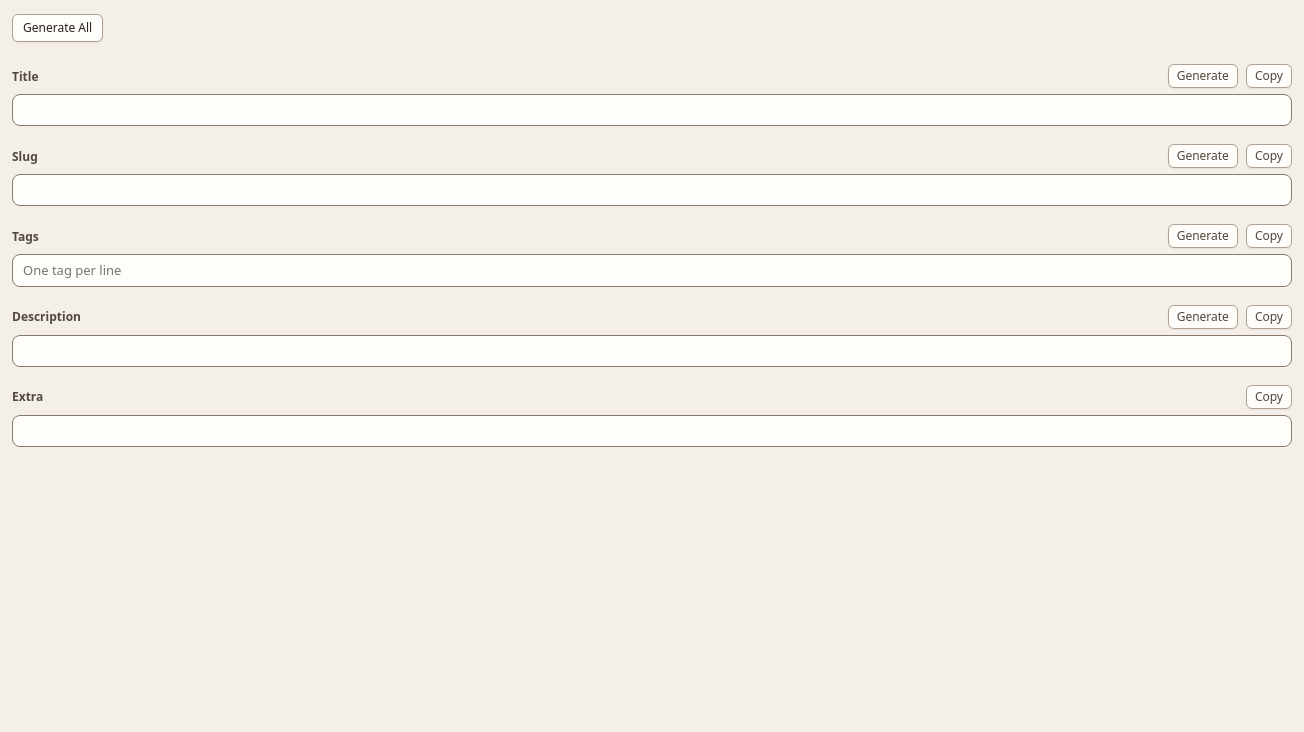
Test: MetadataTab single-field generation › surfaces a generation failure and does not save
Click the button with class "meta-field-generate" in the row of "Title" at point(1203, 76), box left=1168, top=64, right=1238, bottom=88
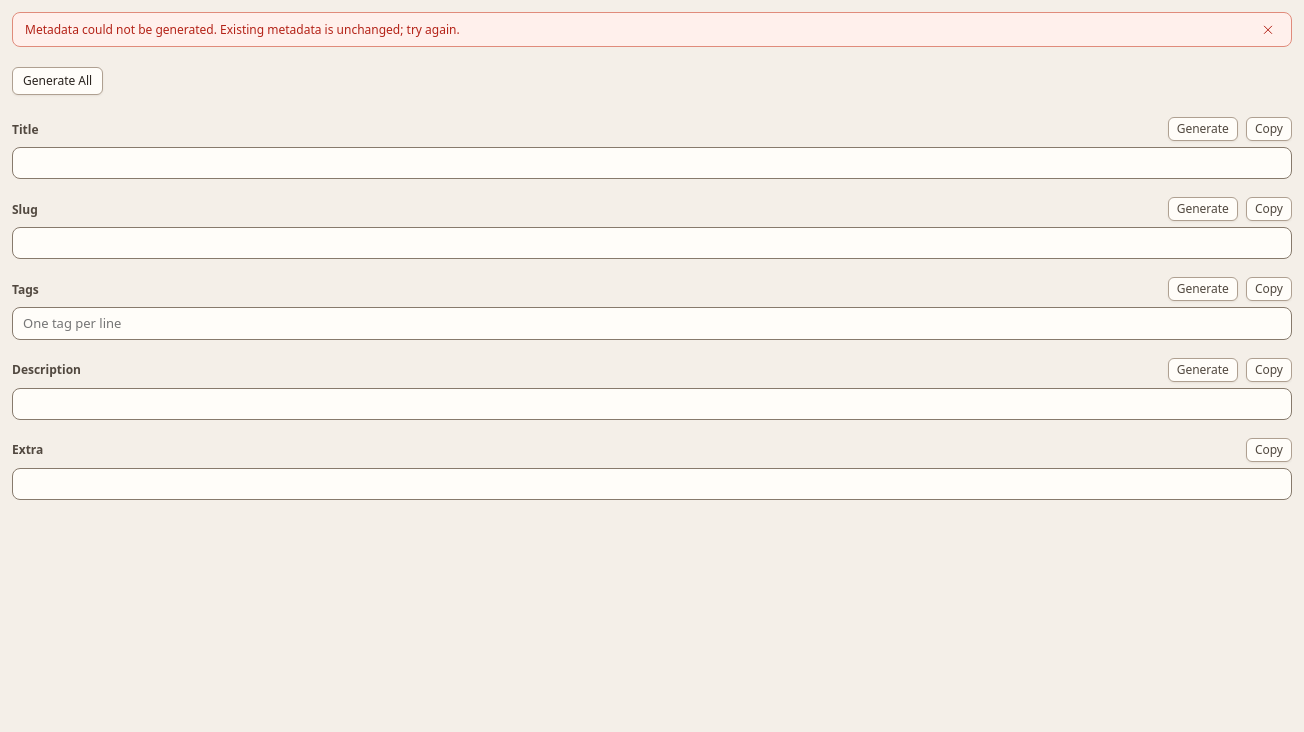
Expected: the message with class "metadata-error" reads "Metadata could not be generated. Existing metadata is unchanged; try again.", left=25, top=21, right=460, bottom=38
